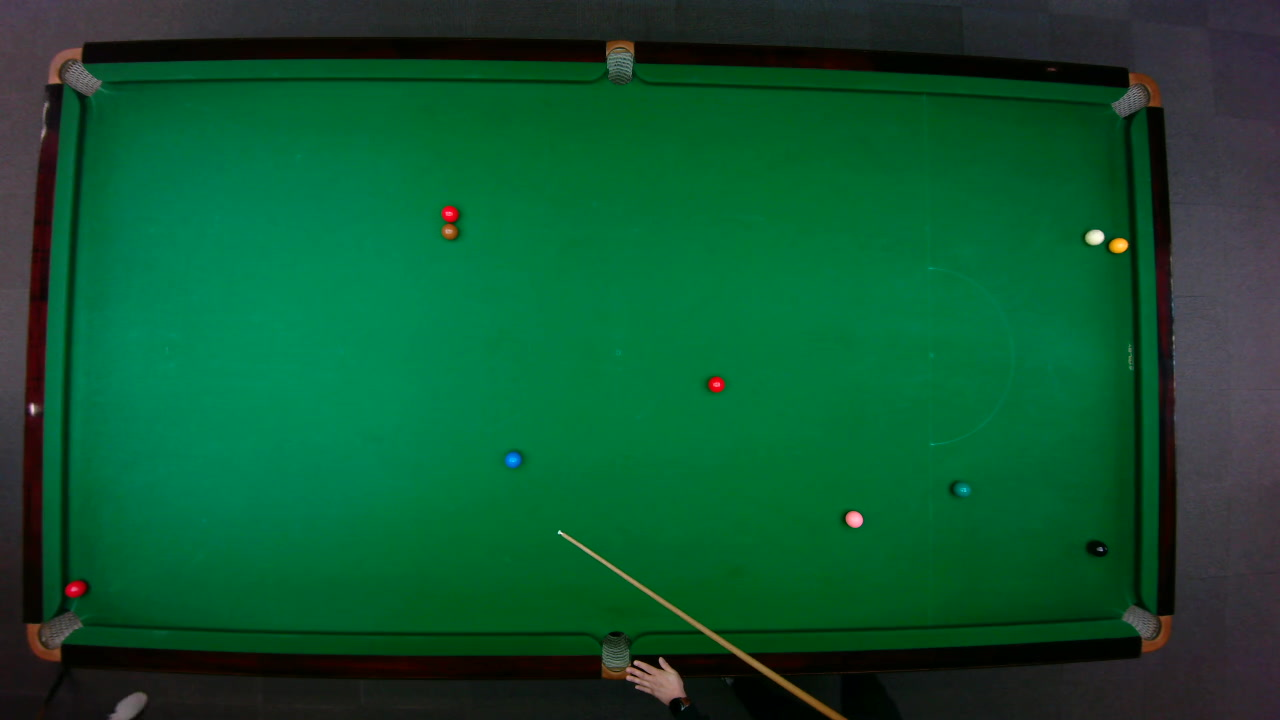bag: (25, 609, 84, 661), (45, 46, 102, 96), (1119, 603, 1171, 651), (1108, 71, 1161, 118), (600, 629, 629, 680), (605, 38, 633, 85)
black: (1087, 539, 1108, 557)
blue: (503, 450, 522, 468)
brown: (440, 223, 458, 240)
cue: (557, 528, 842, 718)
green: (951, 480, 971, 497)
pink: (843, 509, 864, 528)
red: (63, 579, 87, 597), (439, 204, 459, 223), (706, 374, 725, 393)
white: (1083, 227, 1105, 245)
yellow: (1106, 236, 1129, 254)
zone: (927, 265, 1013, 445)
